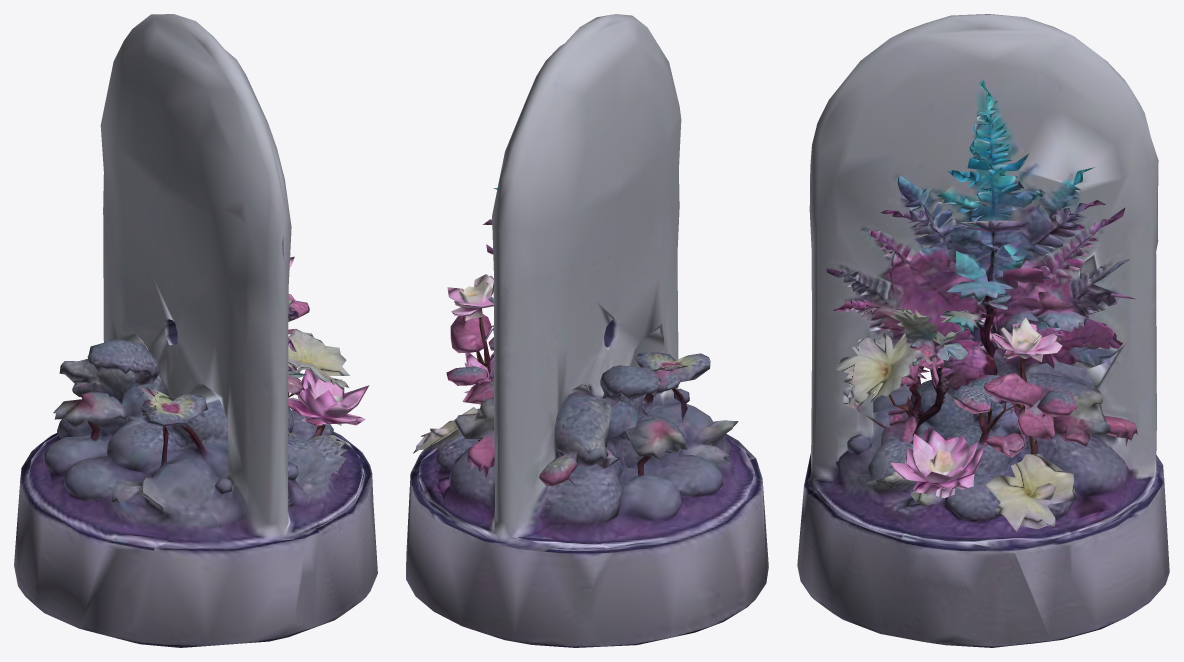
The model's file is au_furn_plant_cyber.glb.
3 views of the same model, side by side, from view 1: azimuth 30°, elevation 25°; view 2: azimuth 150°, elevation 25°; view 3: azimuth 270°, elevation 25° (orthographic).
Visible parts, largest first — view 1: tripo_node_b1351a6f-1bf5-4d7a-bc01-ca3d966e917c; view 2: tripo_node_b1351a6f-1bf5-4d7a-bc01-ca3d966e917c; view 3: tripo_node_b1351a6f-1bf5-4d7a-bc01-ca3d966e917c.
Boxes of the visible parts, bbox=[...] form: tripo_node_b1351a6f-1bf5-4d7a-bc01-ca3d966e917c: bbox=[14, 14, 377, 647]; tripo_node_b1351a6f-1bf5-4d7a-bc01-ca3d966e917c: bbox=[406, 14, 768, 647]; tripo_node_b1351a6f-1bf5-4d7a-bc01-ca3d966e917c: bbox=[797, 14, 1169, 647].
Bounding box in the file's own units: 0.5838 × 0.9784 × 0.5837.
1 material, 1 textured.
